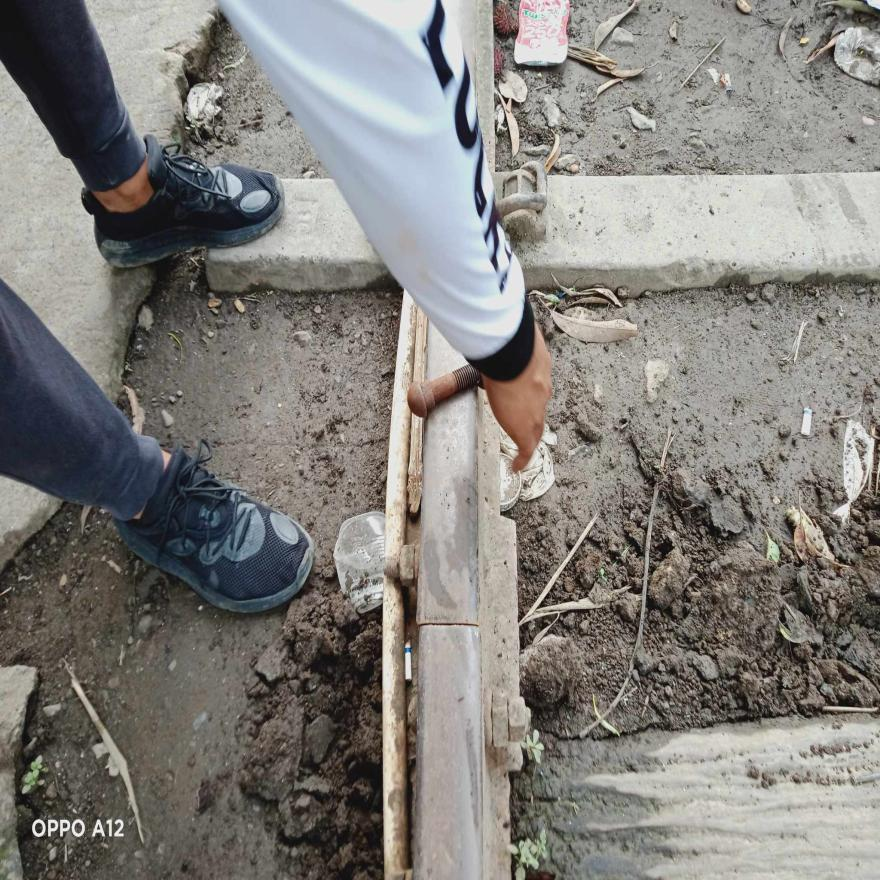railway-gap: (391, 559, 505, 699)
